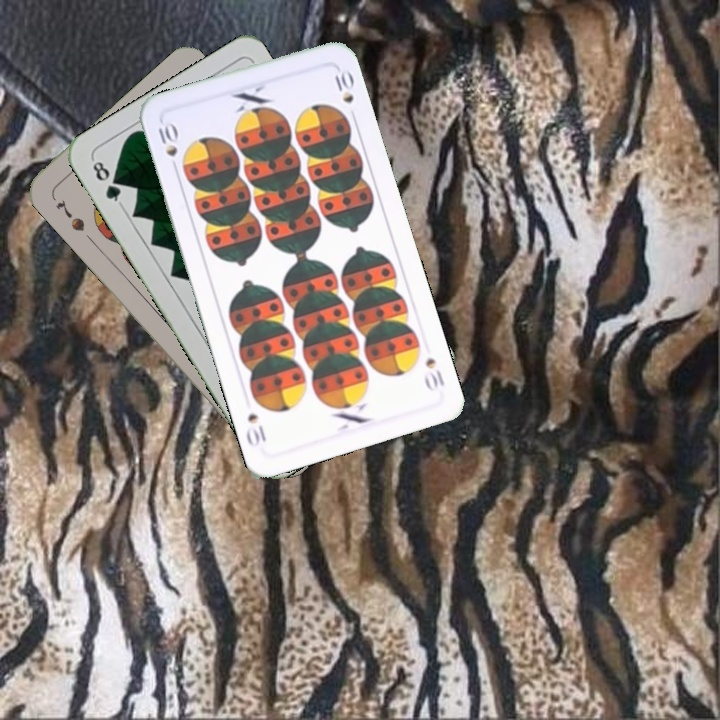G8: (88, 155, 125, 208)
S10: (154, 117, 181, 175), (421, 353, 447, 394)
S7: (51, 195, 88, 234)
